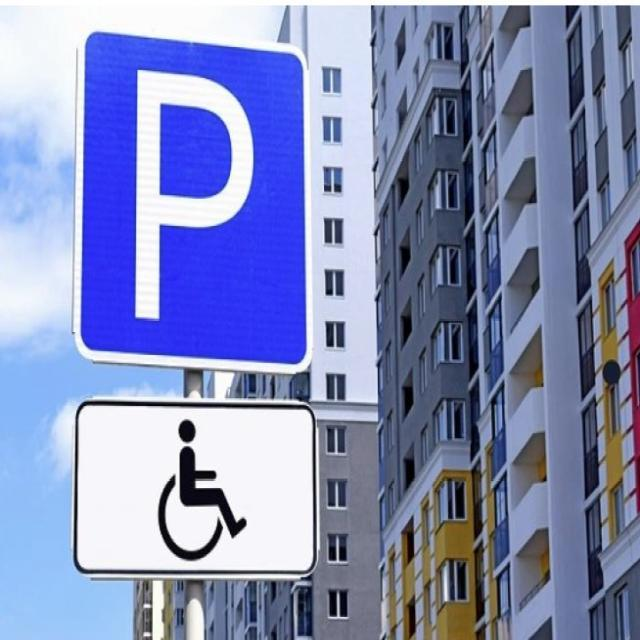symbol_of_access: (68, 396, 321, 580)
